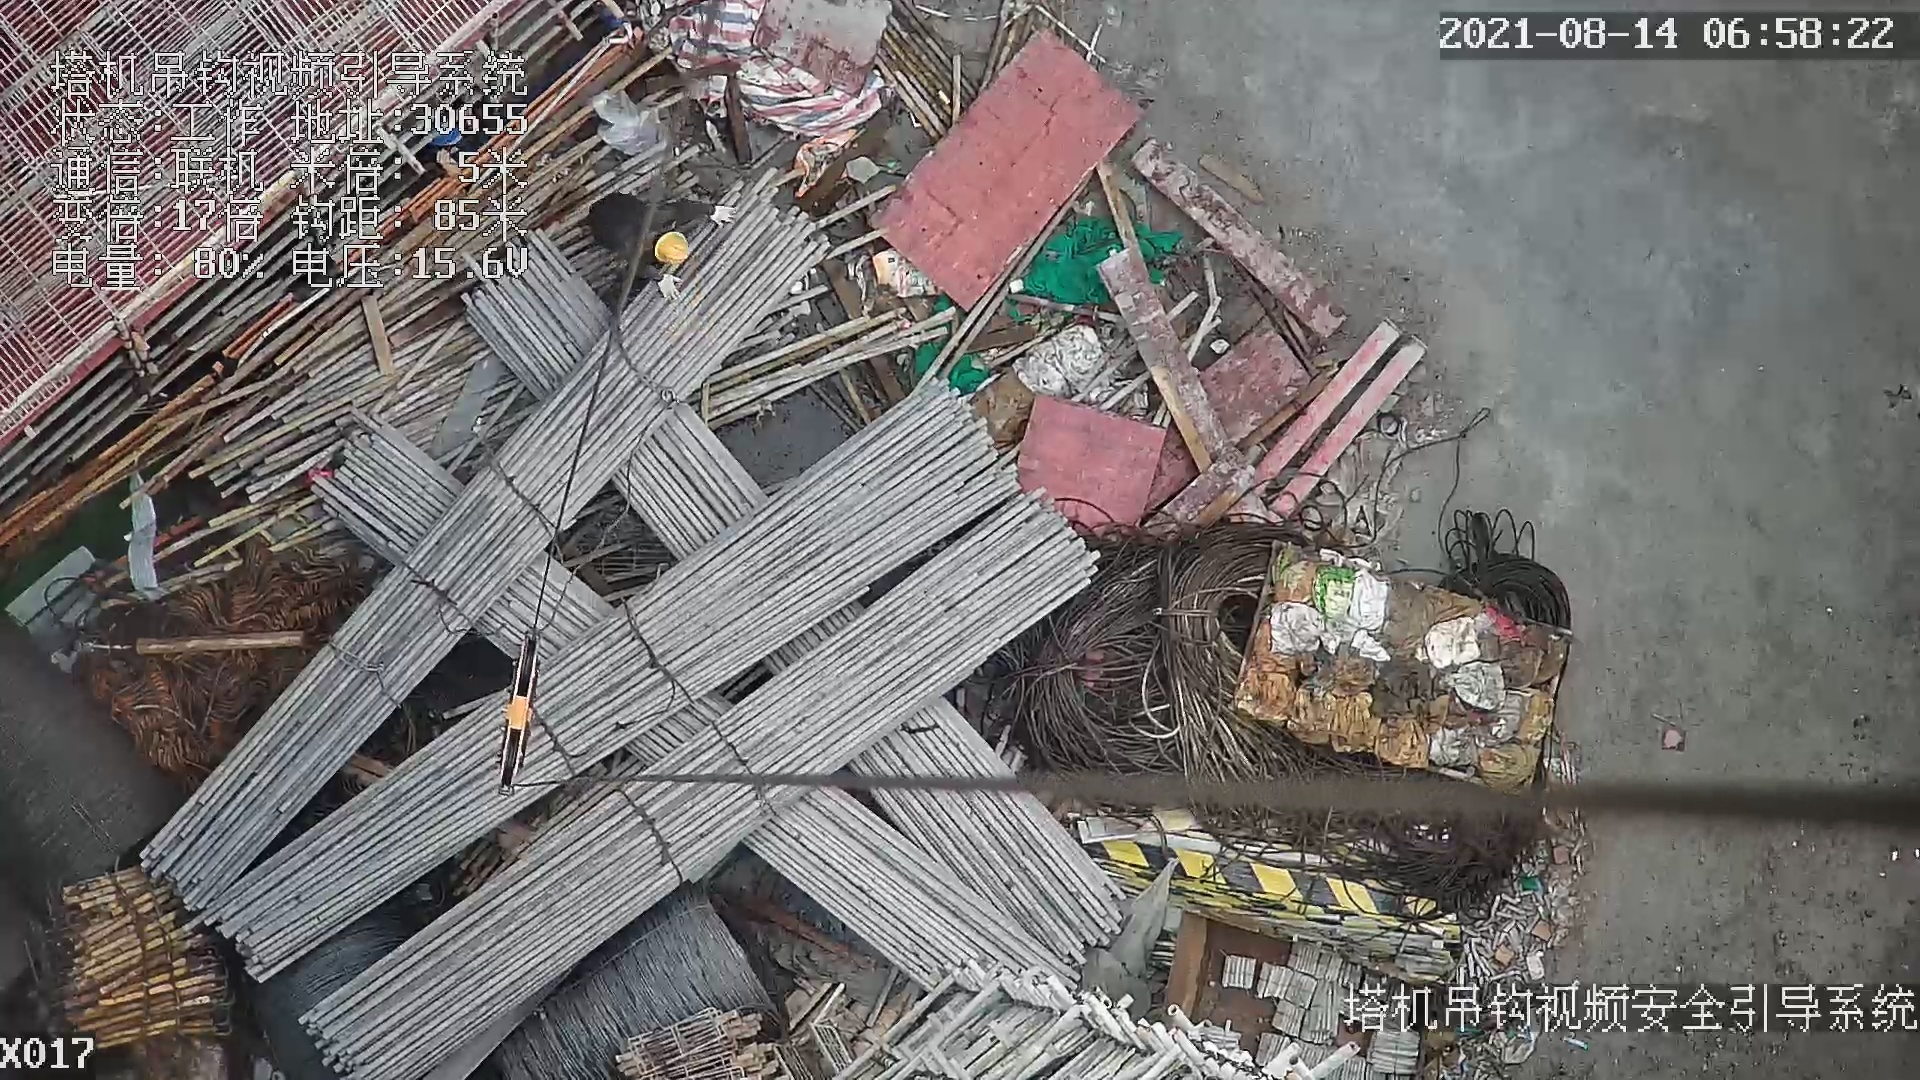helmet: (654, 230, 689, 264)
hook: (492, 621, 533, 794)
person: (587, 190, 738, 306)
rebar: (139, 179, 829, 908), (198, 381, 1024, 983), (299, 491, 1096, 1080), (736, 780, 1085, 995), (844, 700, 1124, 954)
scaffold: (59, 870, 235, 1049)
